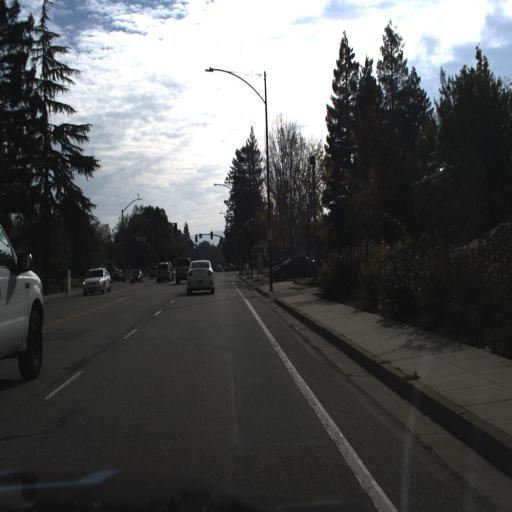car: (266, 248, 318, 280), (187, 257, 217, 293), (80, 266, 111, 296), (173, 256, 190, 284), (156, 259, 172, 283), (126, 267, 141, 283)
truck: (2, 190, 51, 387)
